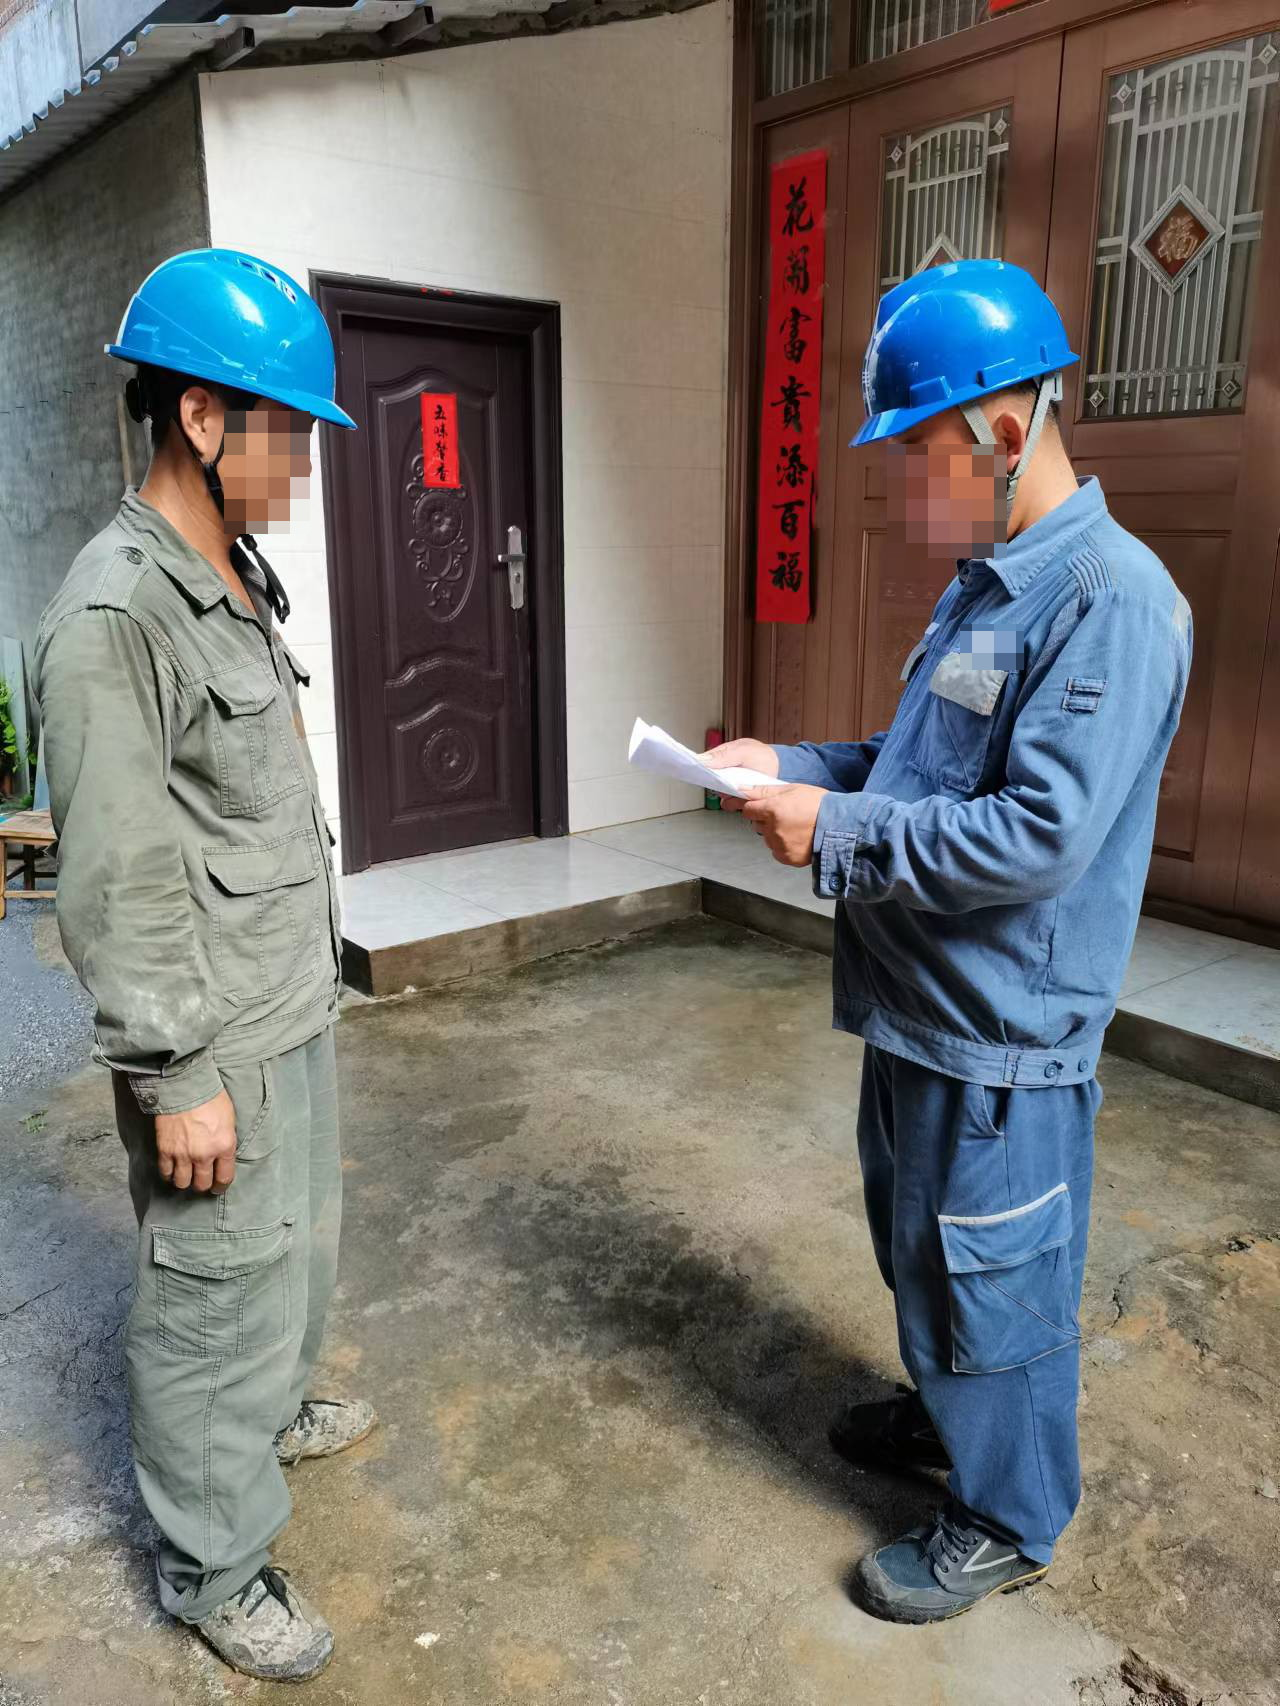downcloth: (110, 1071, 351, 1564)
downsuit: (843, 1084, 1099, 1533)
halt: (100, 246, 362, 512), (856, 256, 1086, 536)
hand: (146, 1077, 244, 1201), (735, 770, 825, 878)
inear: (160, 378, 254, 503), (963, 393, 1053, 508)
person: (701, 249, 1223, 1628), (10, 237, 363, 1706)
upcloth: (29, 485, 349, 1041)
upsuit: (772, 462, 1194, 1071)
